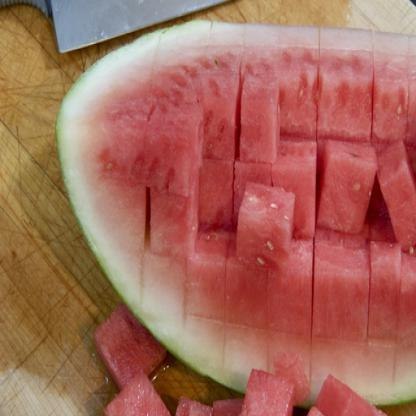knife: (0, 0, 416, 63)
